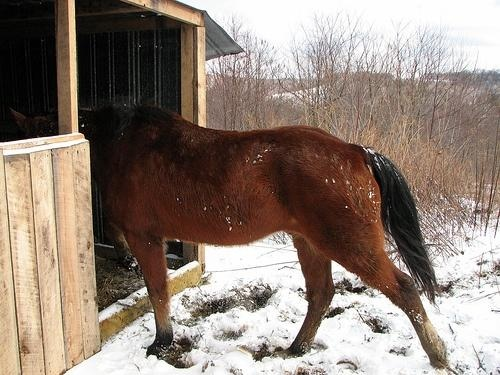horse: (11, 103, 450, 371)
